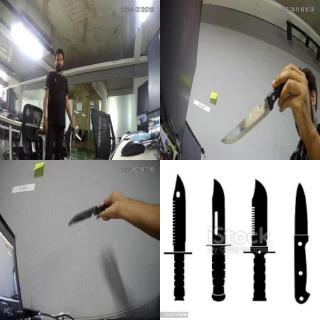knife: (241, 172, 277, 270), (165, 174, 201, 272), (220, 96, 278, 144), (206, 174, 230, 276), (292, 178, 316, 262), (66, 198, 111, 230), (73, 131, 83, 143)
